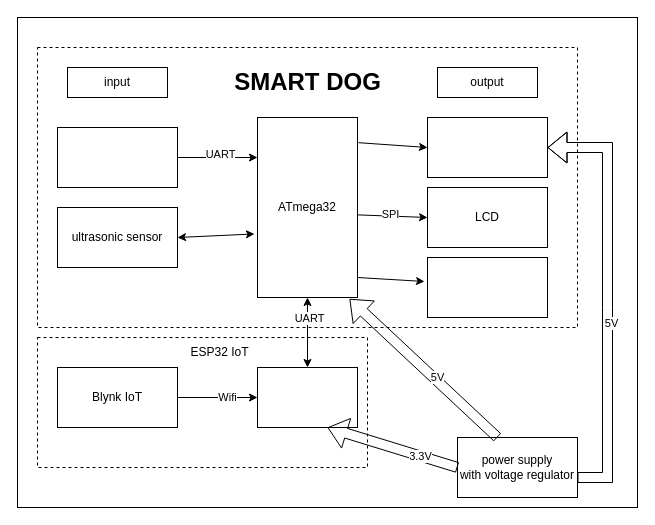
This 655x525 diagram has some shape labels left out. Here are the shapes that lost their labels. From the top down, the centre of each, then its label:
(117,157): voice recognition
(487,147): Servo motor x4
(487,287): Buzzer
(307,397): ESP 32
